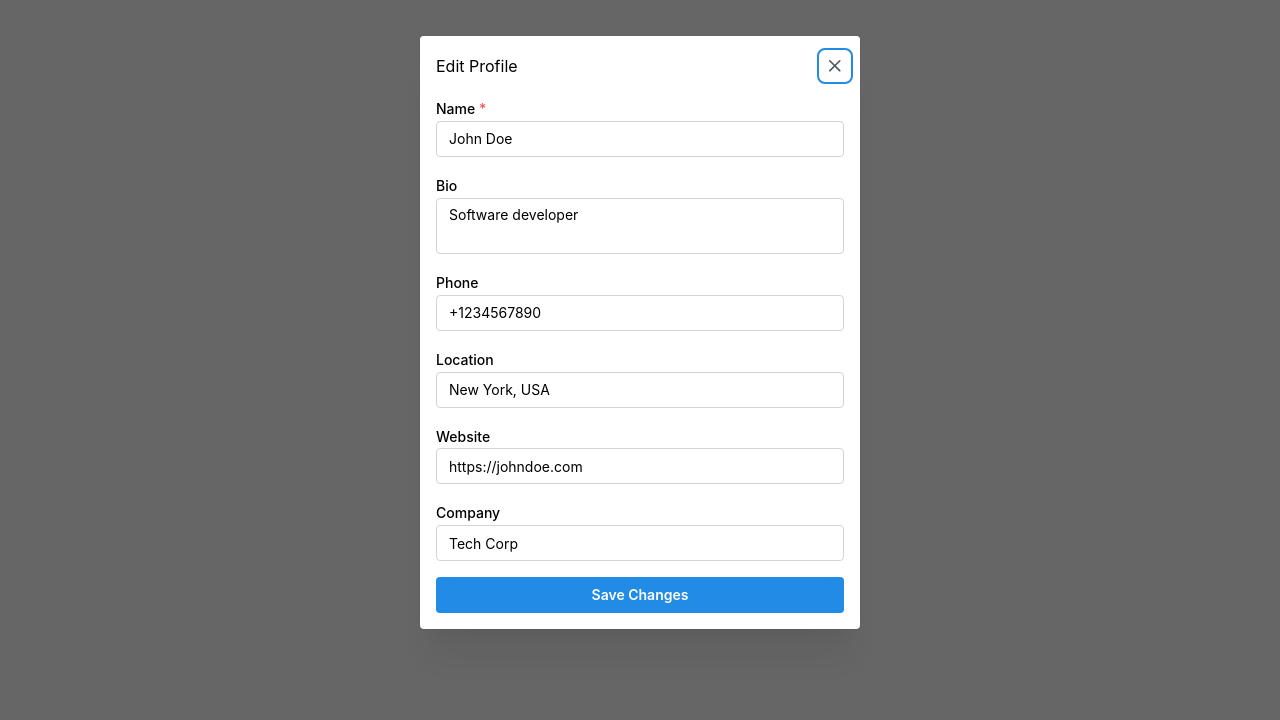
Test: EditProfileModal › should validate website URL
The width and height of the screenshot is (1280, 720).
Replace the text in the field labelled "Website" with "not-a-url": (640, 466) [436,448,844,484]
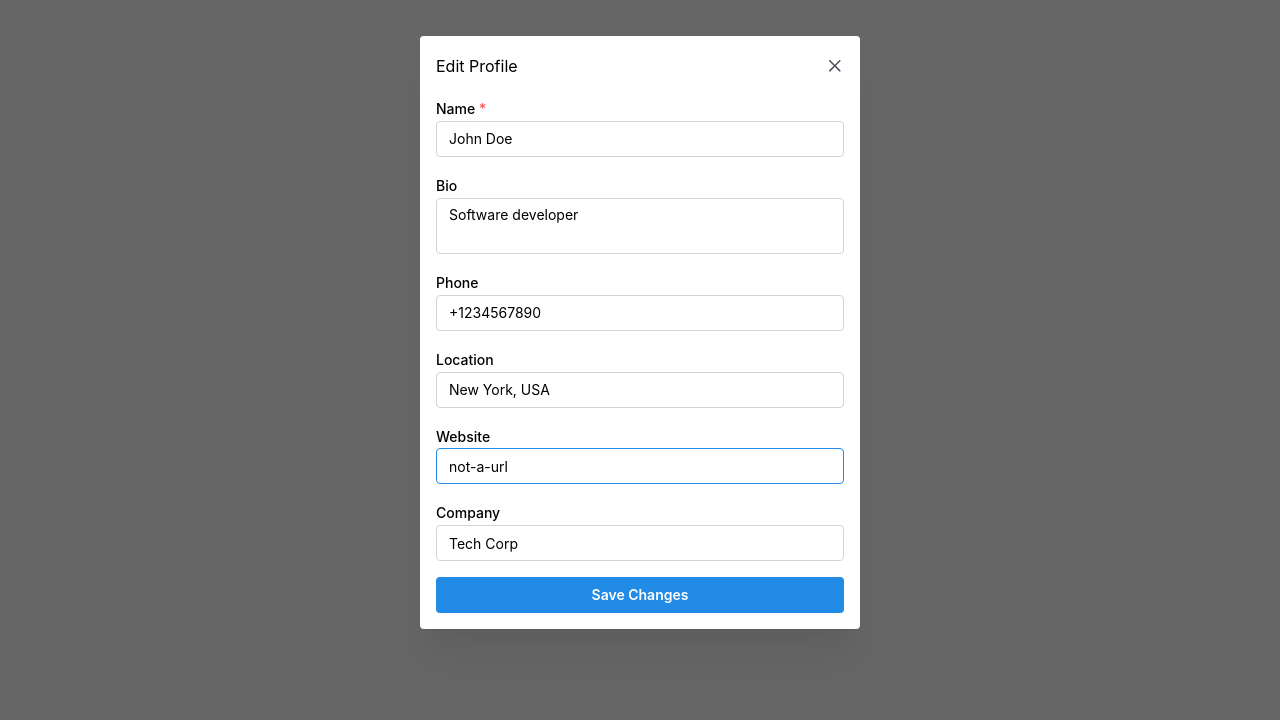
Click the button "Save Changes": (640, 595) [436,577,844,613]
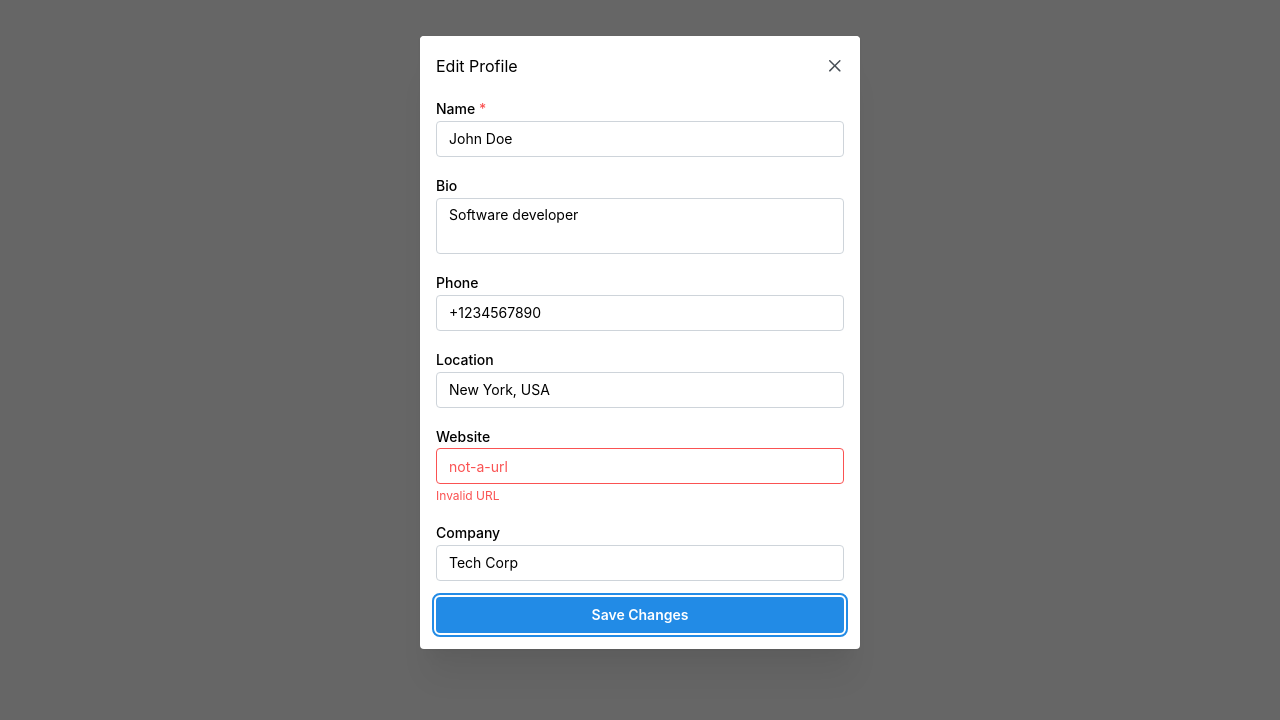
Check: the text "Invalid URL" is shown, box [436,488,500,503]
